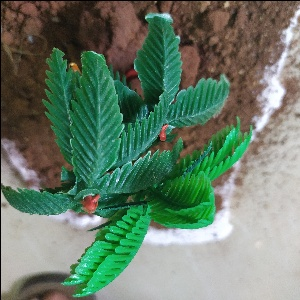plant: (6, 22, 237, 285)
